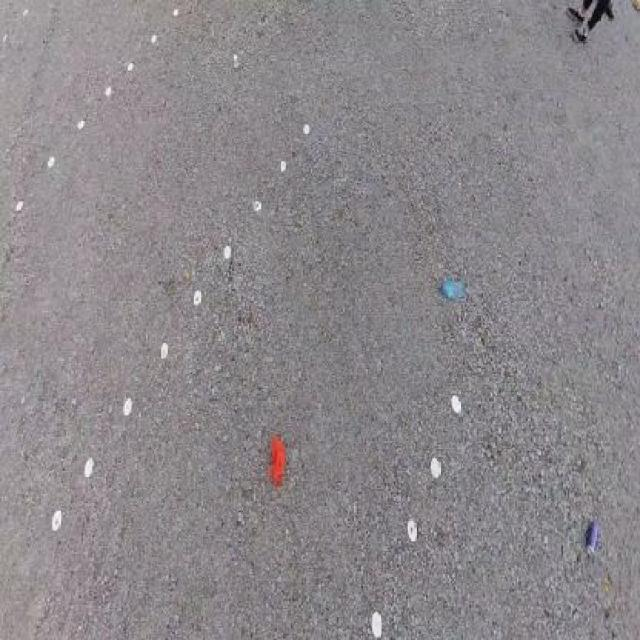Garbage: (266, 434, 286, 487), (439, 278, 466, 300), (585, 519, 600, 557), (233, 55, 240, 68)
